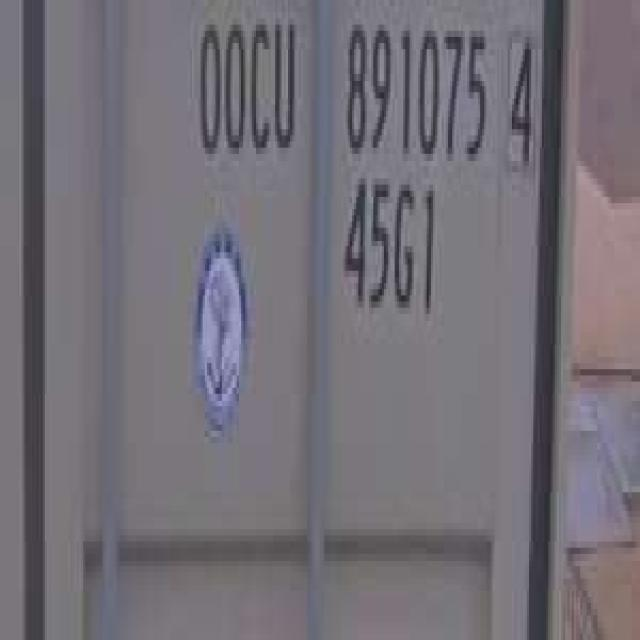dv: (502, 19, 542, 188)
owner: (190, 0, 299, 172)
serial: (339, 0, 490, 172)
size: (337, 166, 442, 332)
